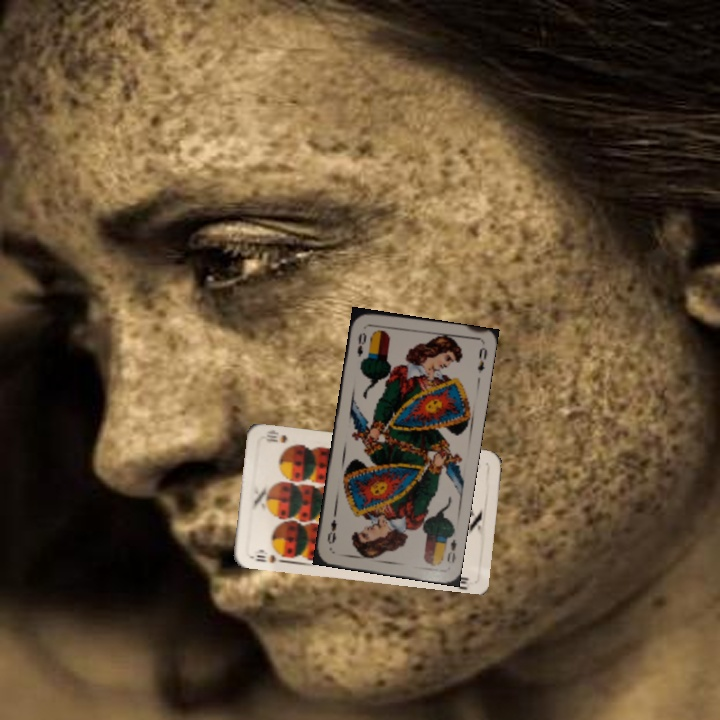EO: (353, 329, 369, 359), (443, 535, 459, 565)
S10: (252, 550, 287, 565)
